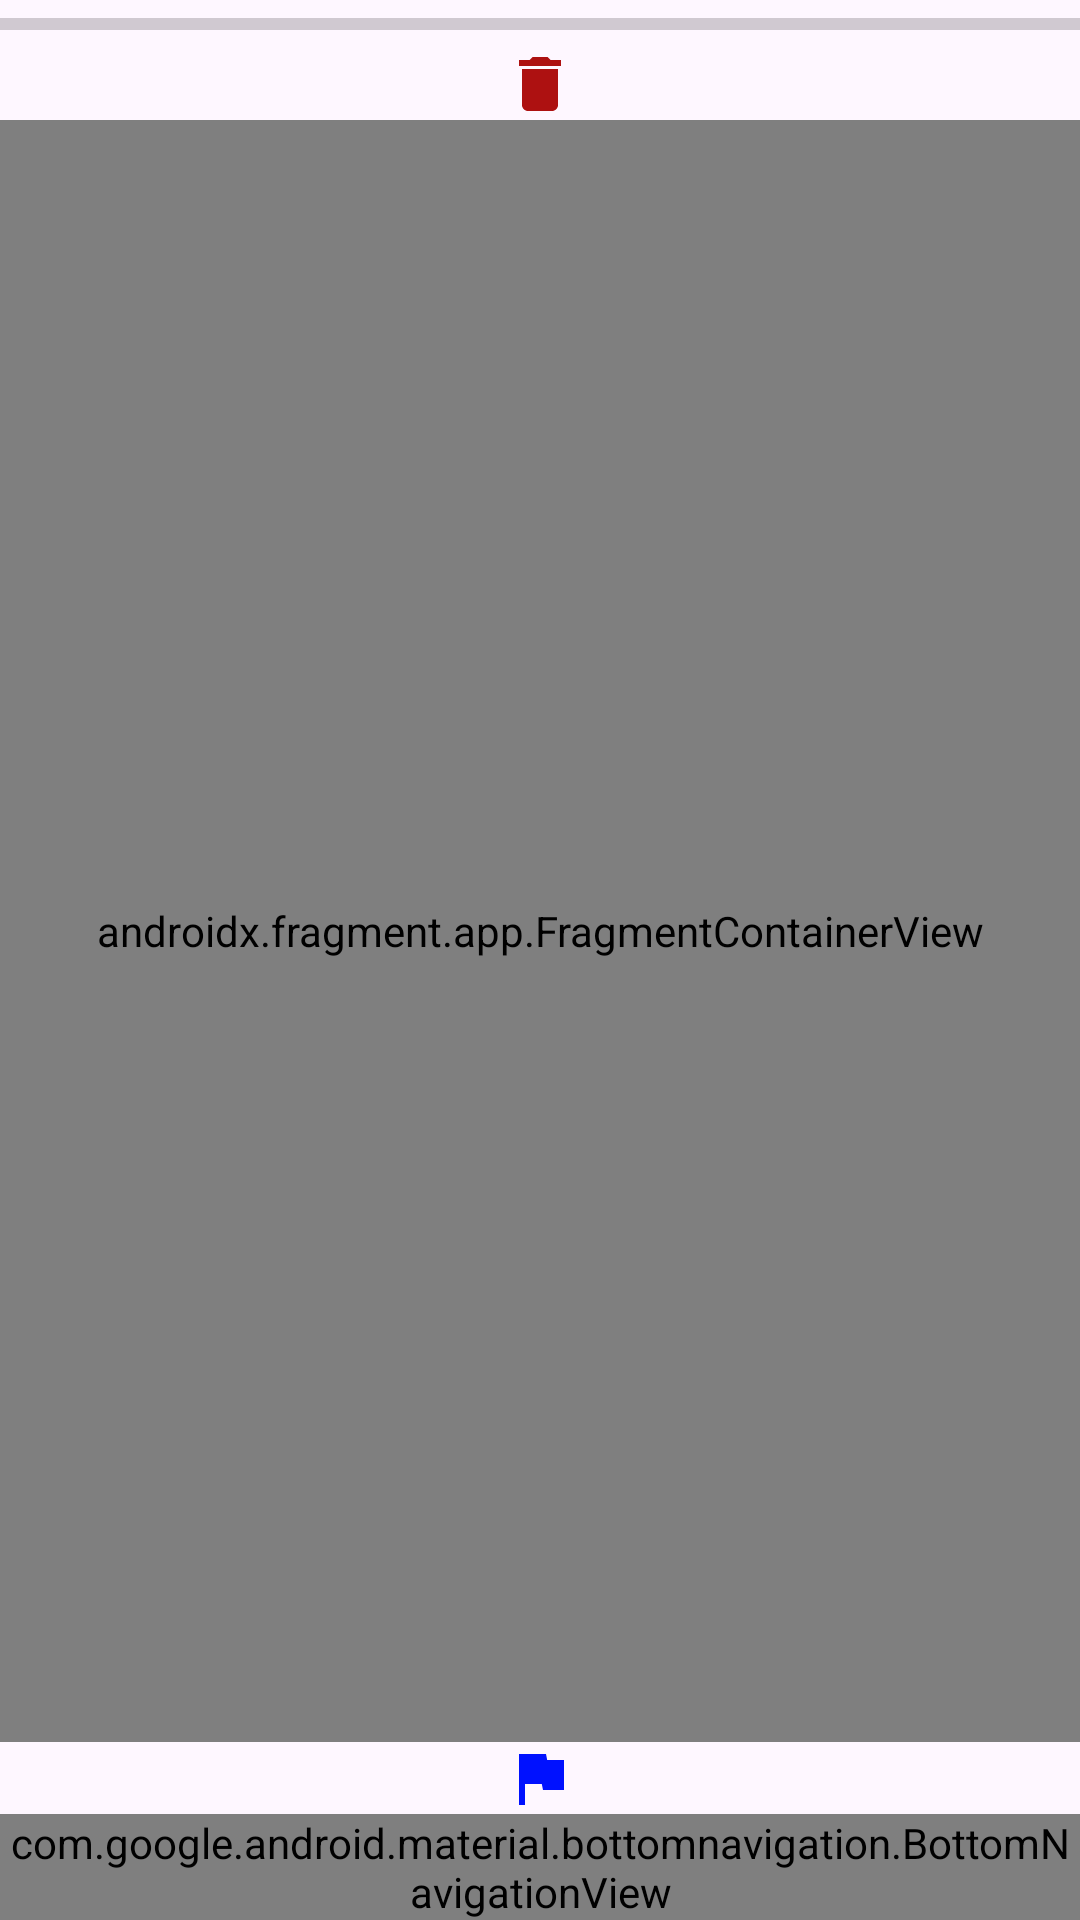

Point at icon controls on the screen. Image size 1080px x 1920px, points as [x,y].
delete: [540,84]
